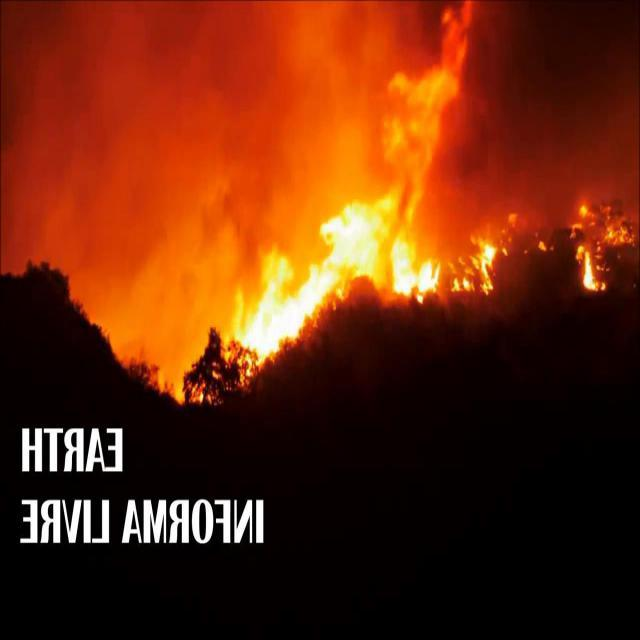Fire: (221, 180, 448, 378), (536, 204, 638, 296), (452, 218, 518, 296)
